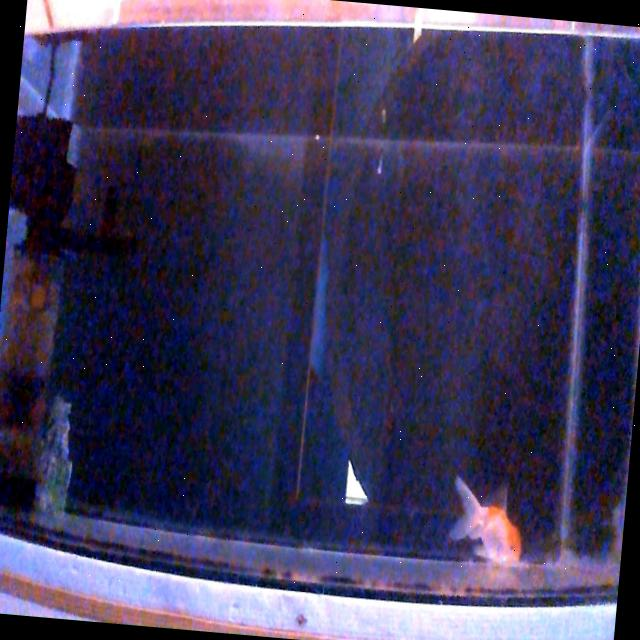fish: (446, 474, 528, 566)
